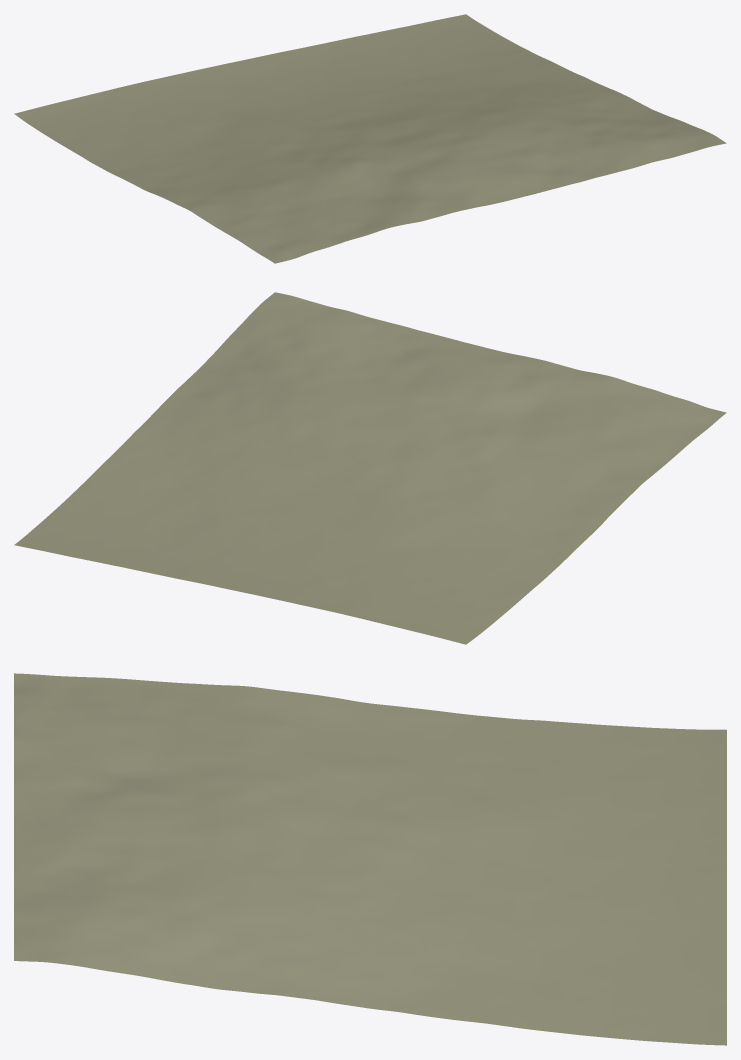
File: SM_VB_CityTerrain_0_6.fbx
The picture shows the model from 3 angles, top to bottom: view 1: azimuth 30°, elevation 25°; view 2: azimuth 150°, elevation 25°; view 3: azimuth 270°, elevation 25°; orthographic projection. The views are drawn at different scales.
Parts seen in each view (by area): view 1: SM_VB_CityTerrain_0_6; view 2: SM_VB_CityTerrain_0_6; view 3: SM_VB_CityTerrain_0_6.
Boxes of the visible parts, left/top/right/bottom form: SM_VB_CityTerrain_0_6: left=14, top=14, right=726, bottom=263; SM_VB_CityTerrain_0_6: left=14, top=292, right=726, bottom=644; SM_VB_CityTerrain_0_6: left=14, top=673, right=726, bottom=1045.
Size of the model in its own units: 600 by 79.21 by 600.
